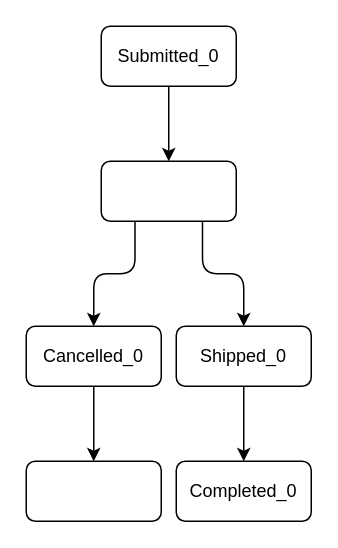
Some shapes in this 338 by 548 pixel diagram are drawn without their labels. Here are the shapes that lost their labels. From the top down, the centre of each, then its label:
At (168,190): "Processing_0".
At (93,490): "Processing_1".
